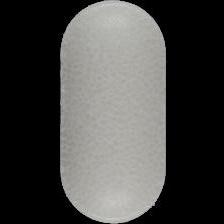50436-4311: (0, 0, 224, 224)
